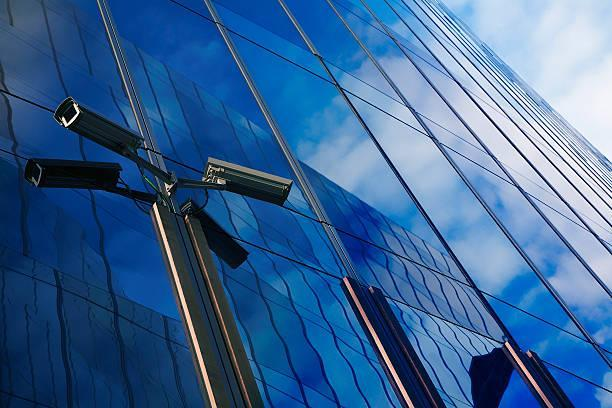camera: (195, 137, 301, 226), (19, 144, 135, 216), (47, 93, 161, 156)
